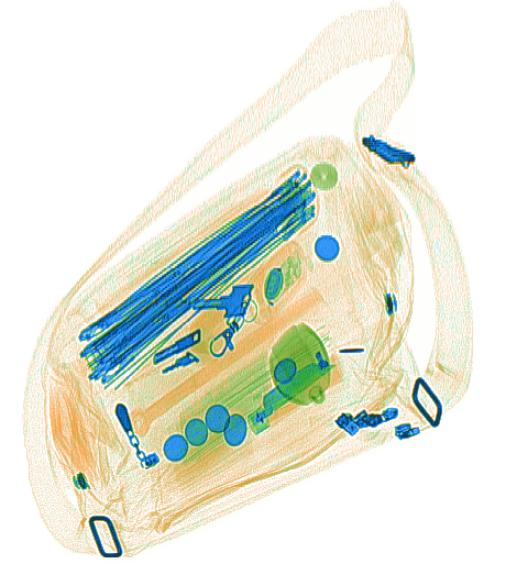knife: (247, 358, 339, 425)
